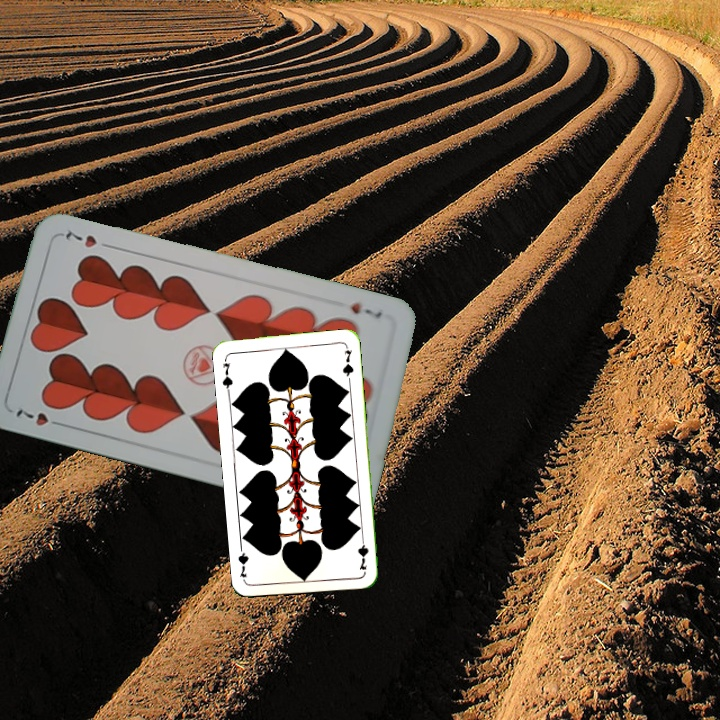G7: (354, 532, 371, 573), (218, 354, 235, 394)
H7: (10, 402, 68, 430), (346, 298, 385, 321)
